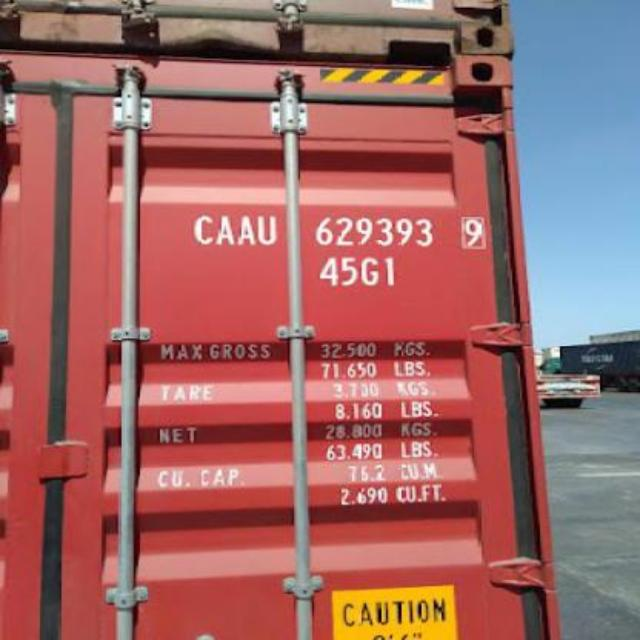2: (334, 213, 356, 249)
3: (374, 210, 392, 252), (414, 208, 432, 250)
6: (314, 211, 334, 249)
9: (464, 212, 488, 254), (392, 210, 414, 250), (356, 213, 372, 249)
A: (236, 210, 258, 250), (217, 209, 233, 249)
C: (188, 209, 214, 249)
U: (256, 210, 278, 254)
